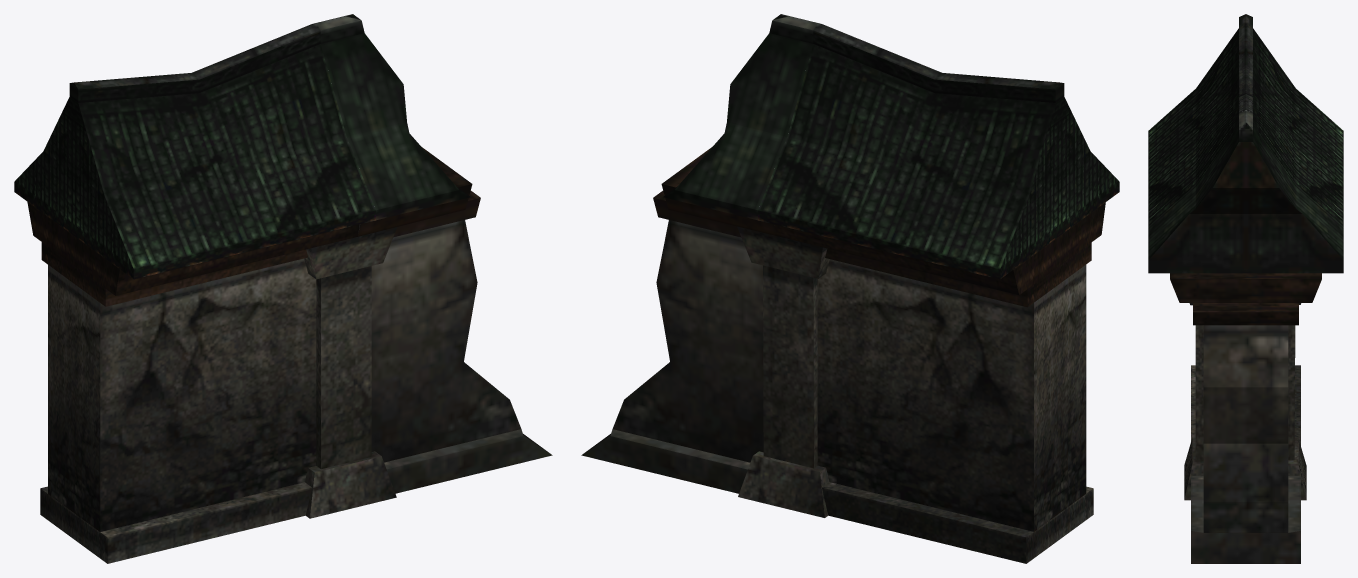
Rendered from c1-038-wall-lin_01.glb.
3 renders of one model, left to right at view 1: azimuth 30°, elevation 25°; view 2: azimuth 150°, elevation 25°; view 3: azimuth 270°, elevation 25°, orthographic. The views are drawn at different scales.
Visible parts, largest first — view 1: c1-038-wall01; view 2: c1-038-wall01; view 3: c1-038-wall01.
Boxes of the visible parts, x1,y1,x2,y2 form: c1-038-wall01: [14, 14, 552, 563]; c1-038-wall01: [581, 14, 1119, 563]; c1-038-wall01: [1148, 14, 1343, 563].
Bounding box in the file's own units: 4.59 × 4.5 × 2.13.
2 materials, 2 textured.
